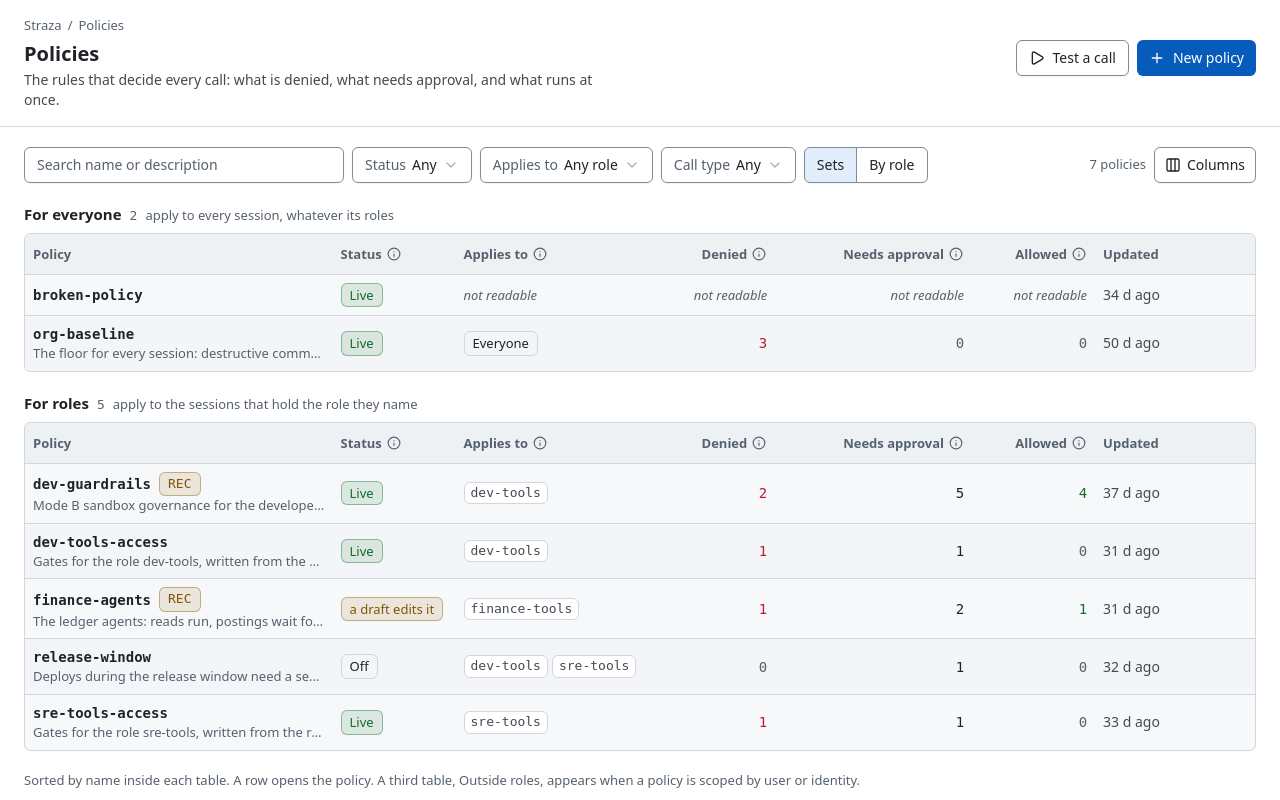
Scenario: the Policies list › narrows every table at once on the search, over the name and the description
Expected: the button with aria-label "Open dev-guardrails" is shown, left=25, top=463, right=1255, bottom=523
Type "release window" into the field labelled "Search name or description" at (184, 164), box left=24, top=146, right=344, bottom=182
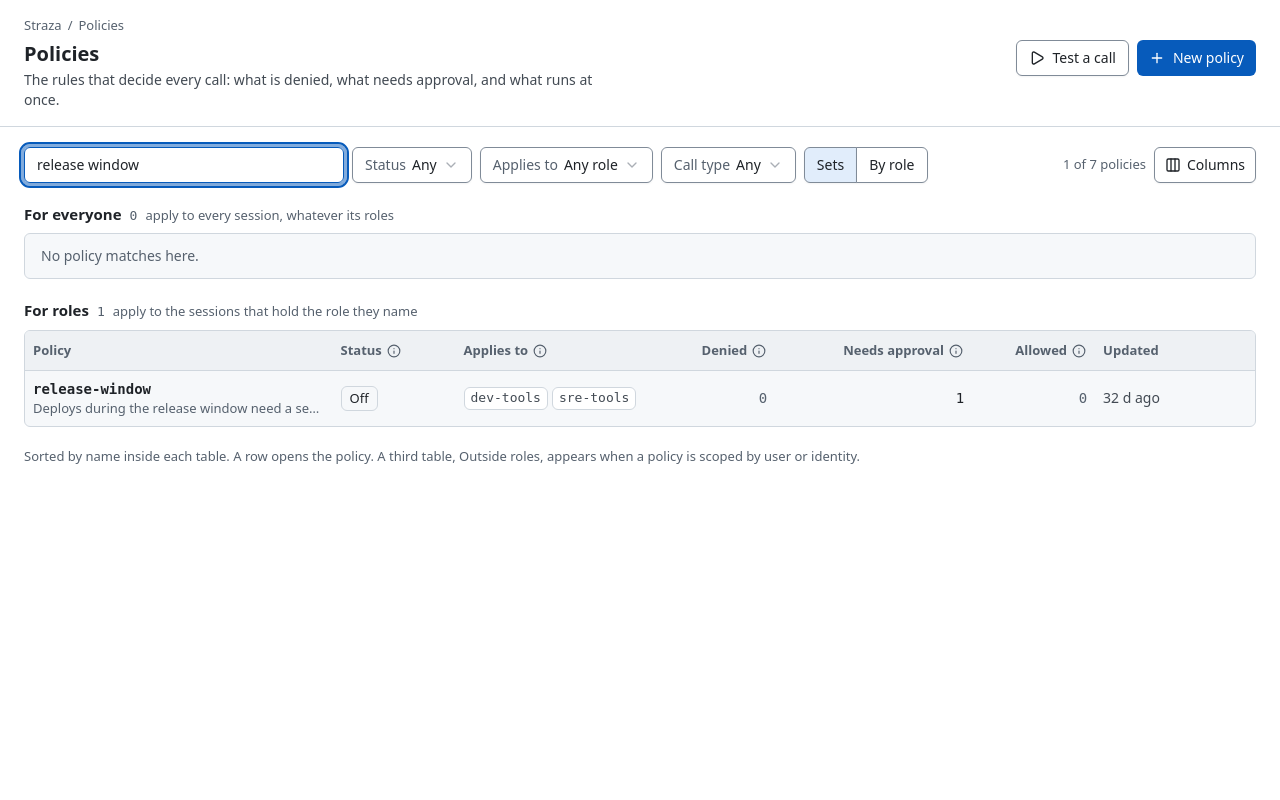
Expected: the text "No policy matches here." is shown, left=24, top=233, right=1256, bottom=279
